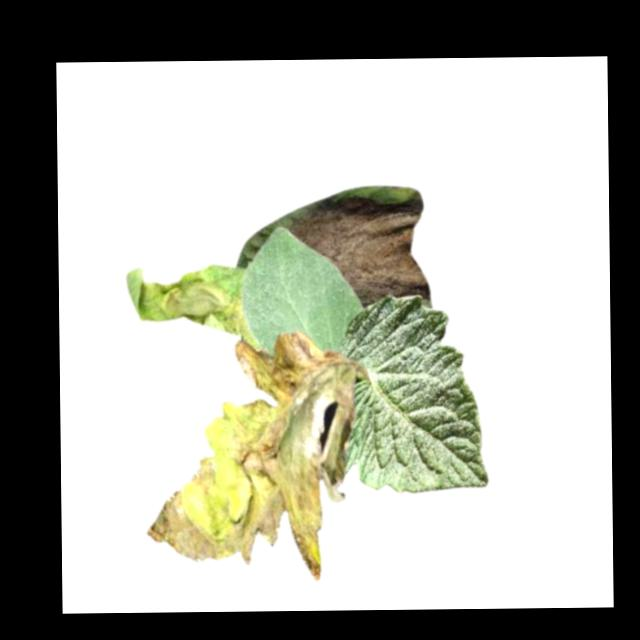Late_blight: (144, 331, 360, 582), (286, 195, 434, 308), (124, 262, 259, 352)
